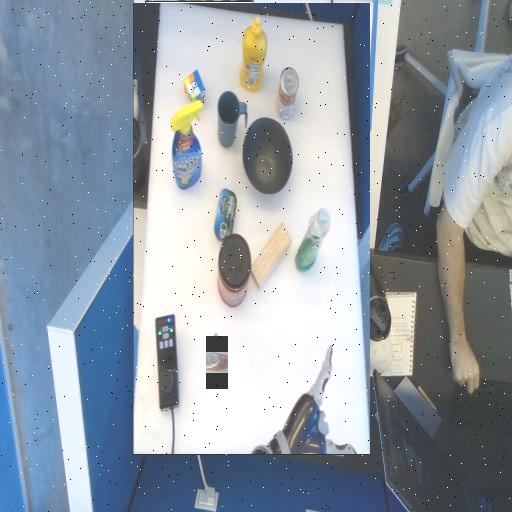bowl: (212, 275, 261, 324)
cleanser: (174, 200, 209, 234)
coffee_can: (253, 169, 286, 201)
jaco: (145, 2, 253, 109)
meat_can: (267, 230, 289, 252)
mug: (257, 322, 286, 351)
mustard_bottle: (239, 365, 263, 437)
rubik: (299, 359, 320, 381)
soup_can: (206, 352, 227, 372)
windex: (302, 268, 333, 355)
wooden_block: (213, 166, 253, 232)
workspace: (134, 3, 370, 454)
